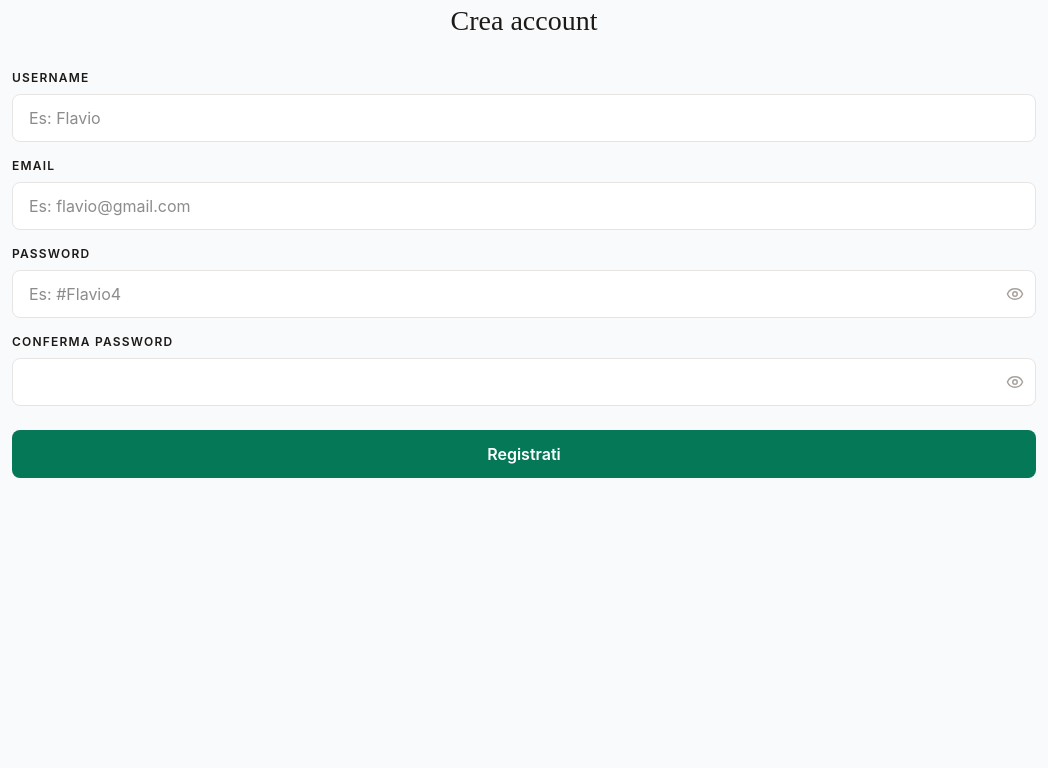
Register › password non coincide: mostra errore (RF-OB_16)
This screenshot has width=1048, height=768.
Type "Password1!" into the password field labelled "Password".
click(524, 294); type("Password1!")  # box [12, 270, 1036, 318]
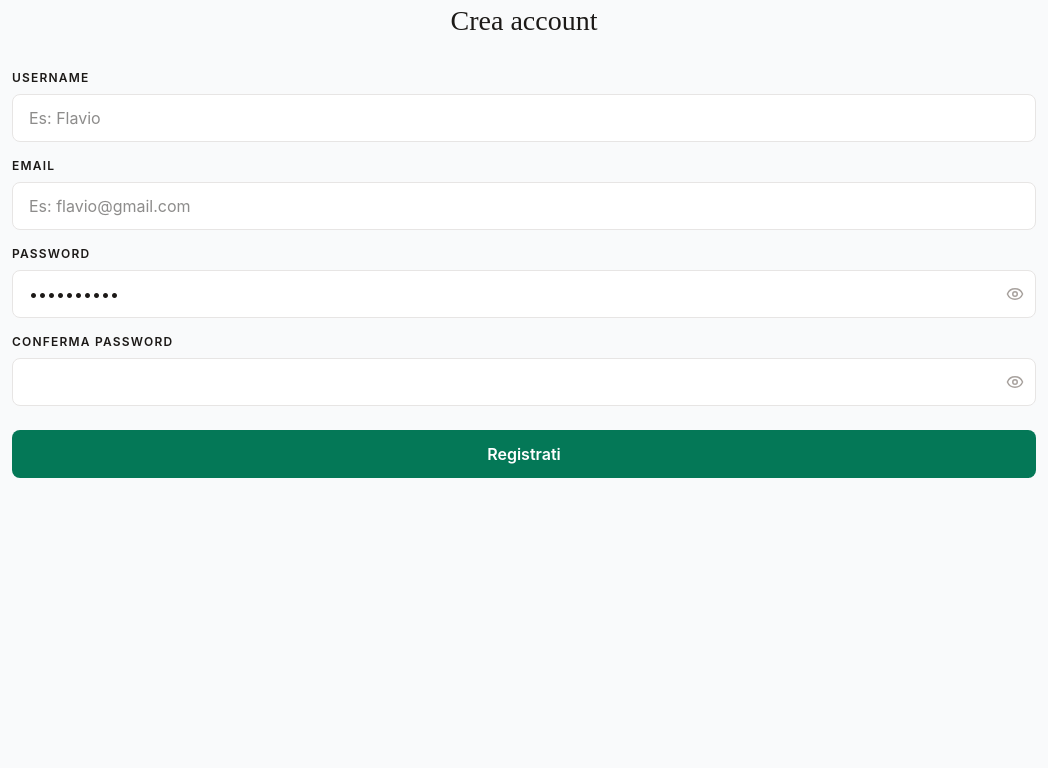
Type "Diversa123!" into the password field labelled "Conferma Password".
click(524, 382); type("Diversa123!")  # box [12, 358, 1036, 406]
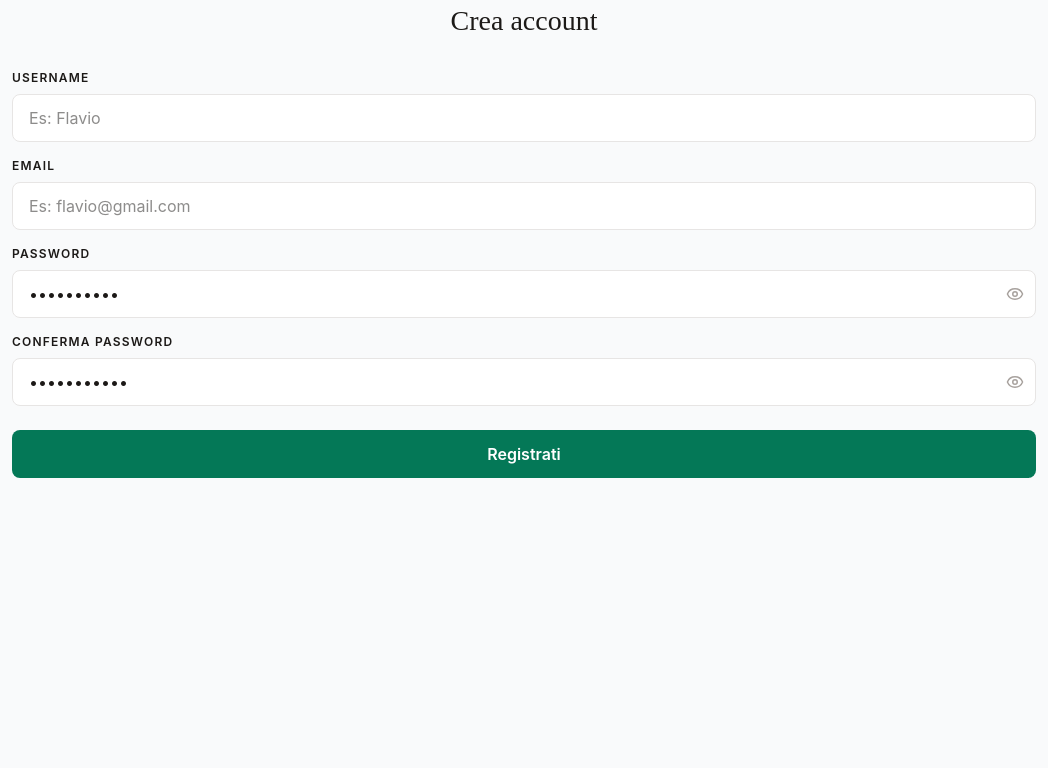
Click the button "Registrati".
click(524, 454)  # box [12, 430, 1036, 478]
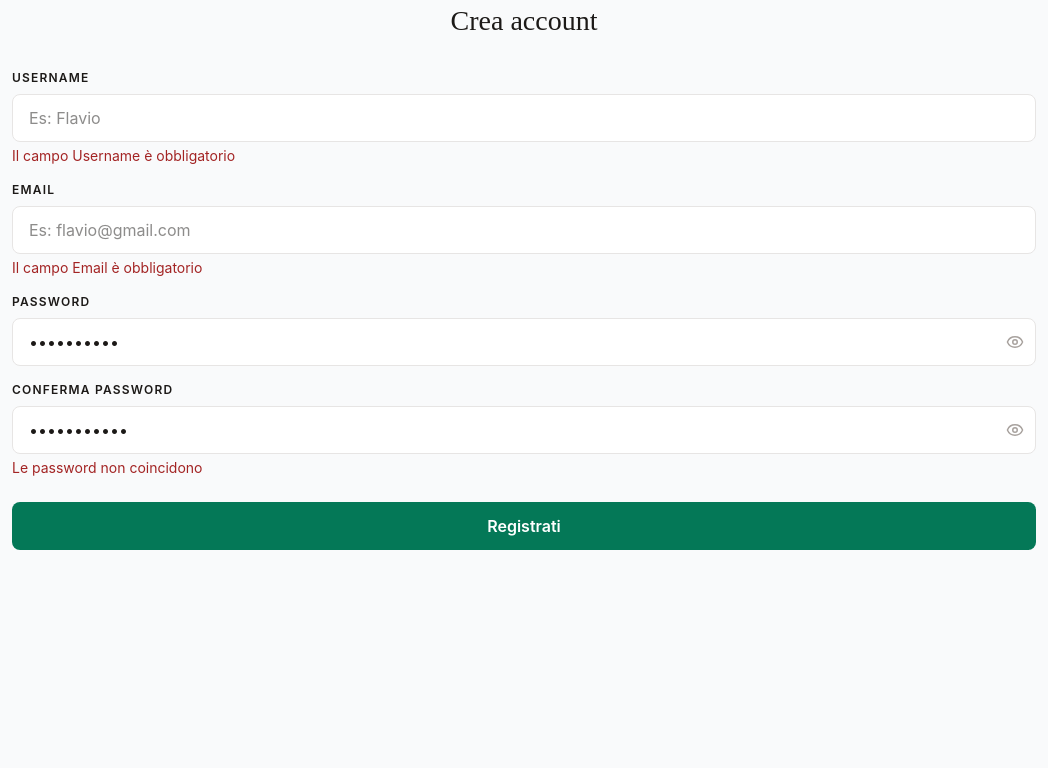
Check: the text "Le password non coincidono" is shown, box [12, 459, 202, 476]
